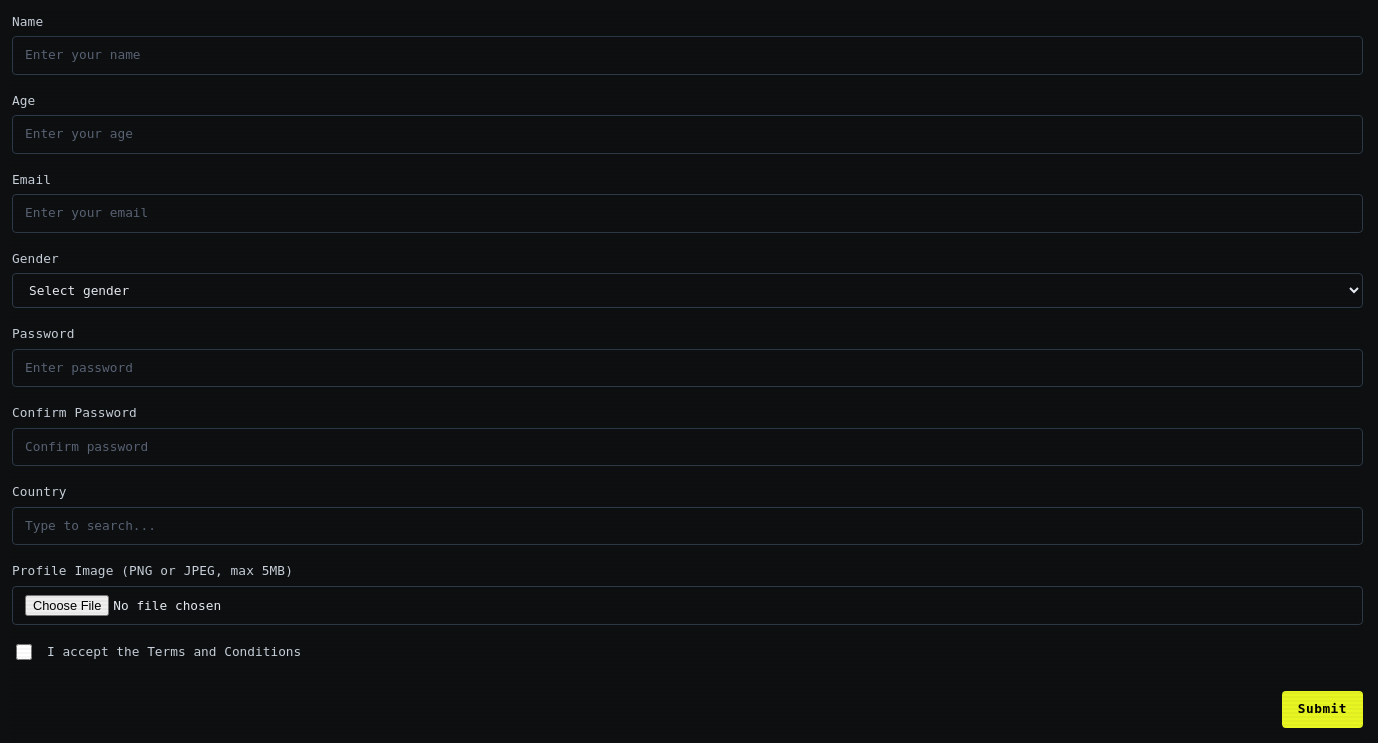
UncontrolledForm › shows error when name starts with lowercase
In the field labelled "Name": x=688, y=56 [12,36,1363,75], type "alice"
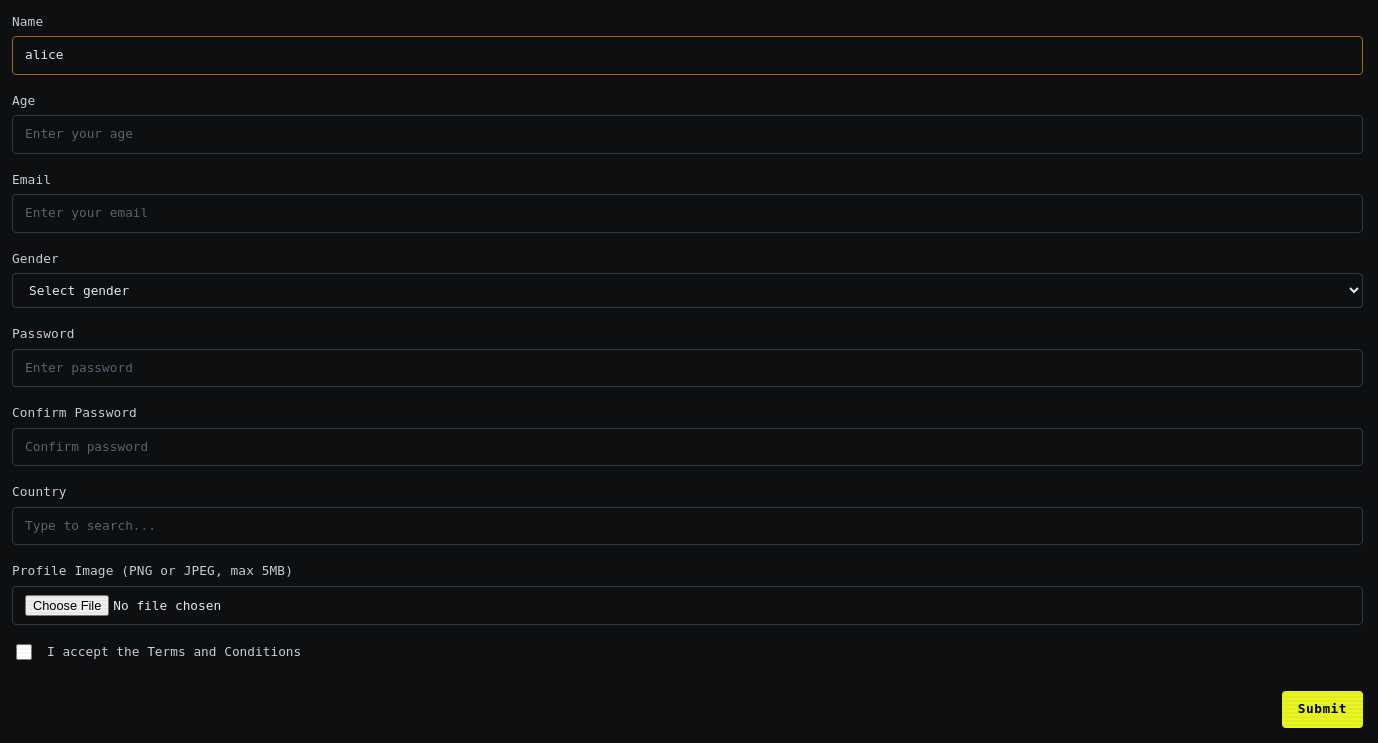
Click the button "Submit": x=1322, y=709 [1282,691,1363,728]
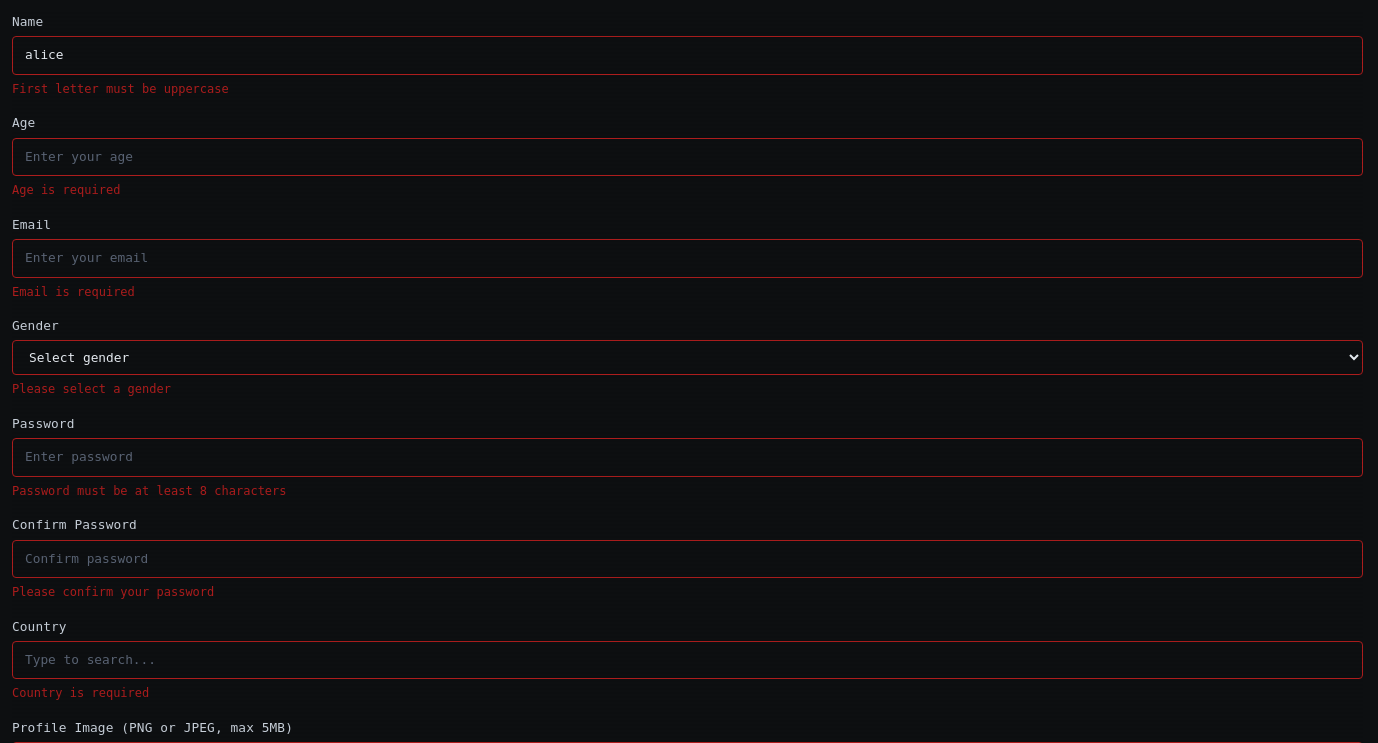
Now the text "First letter must be uppercase" is shown, box [12,82,229,96]
